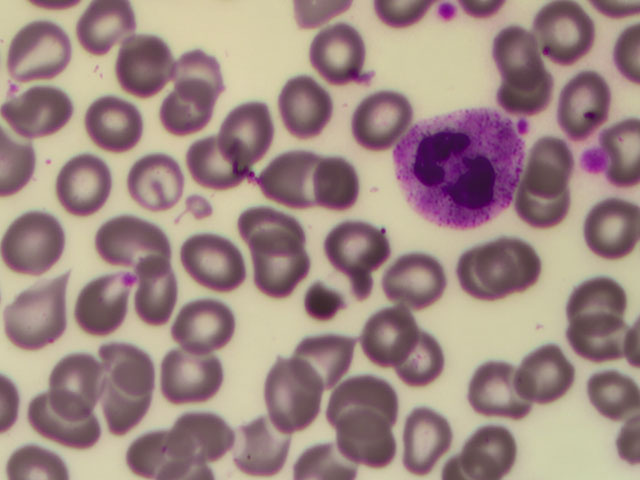Platelets: (578, 147, 605, 173), (437, 1, 457, 20), (122, 269, 141, 289)
RBC: (115, 35, 175, 92), (74, 1, 134, 58), (9, 21, 69, 78), (52, 151, 112, 208), (12, 79, 72, 136), (84, 91, 144, 148), (125, 159, 185, 216), (185, 138, 245, 195), (218, 98, 278, 155), (171, 84, 231, 141), (181, 52, 241, 109), (284, 85, 344, 142), (309, 21, 369, 78), (353, 92, 413, 149), (309, 145, 369, 202), (268, 137, 328, 194), (234, 206, 294, 263), (248, 238, 308, 295), (183, 231, 243, 288), (105, 212, 165, 269), (140, 258, 200, 315), (174, 296, 234, 353), (166, 339, 226, 396), (171, 407, 231, 464), (129, 423, 189, 480), (95, 325, 155, 382), (95, 385, 155, 442), (69, 284, 129, 341), (6, 285, 66, 342), (14, 212, 74, 269), (45, 351, 105, 408), (22, 386, 82, 443), (231, 416, 291, 473), (262, 363, 322, 420), (311, 332, 371, 389), (360, 308, 420, 365), (392, 253, 452, 310), (335, 221, 395, 278), (444, 247, 504, 304), (483, 236, 543, 293), (520, 182, 580, 239), (523, 134, 583, 191), (546, 76, 606, 133), (496, 63, 556, 120), (481, 30, 541, 87), (536, 1, 596, 58), (580, 202, 640, 259), (567, 270, 627, 327), (573, 308, 633, 365), (513, 351, 573, 408), (474, 362, 534, 419), (394, 413, 454, 470), (347, 413, 407, 470), (337, 377, 397, 434), (399, 330, 459, 387), (456, 423, 516, 480)
WBC: (398, 108, 527, 225)
